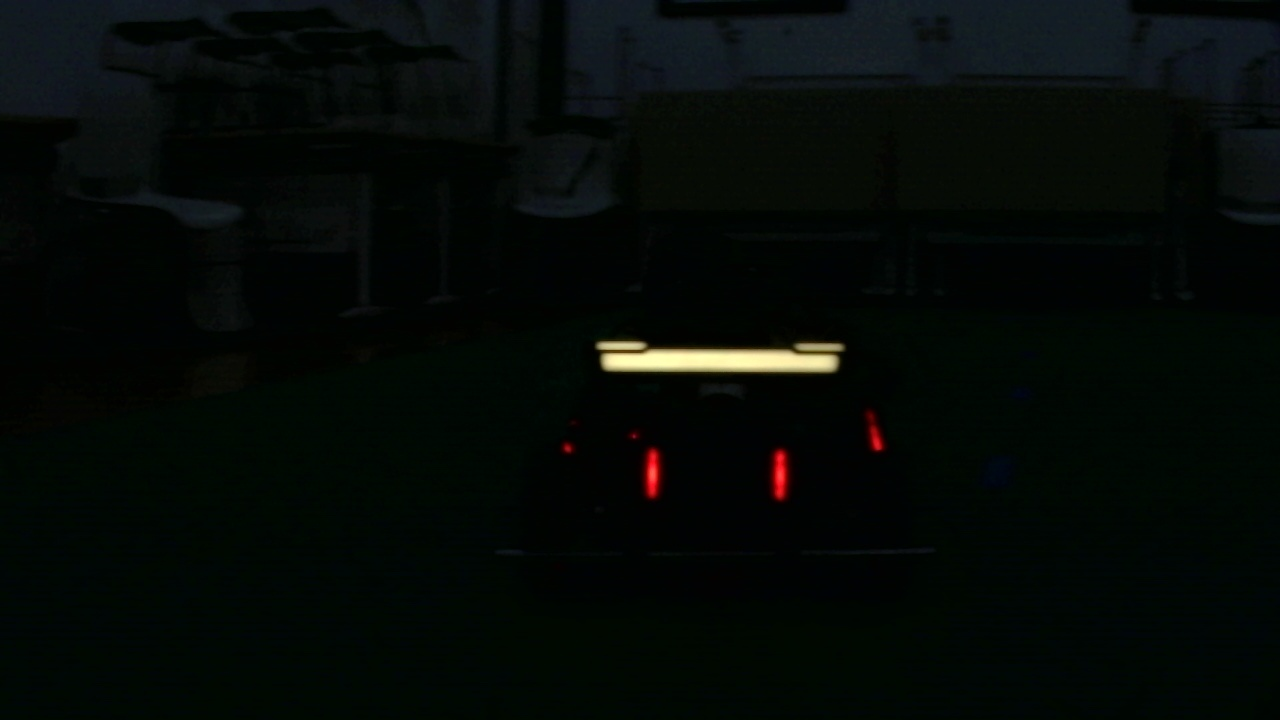lamp: (641, 443, 664, 499), (772, 445, 792, 500)
pair1: (642, 446, 791, 506)
